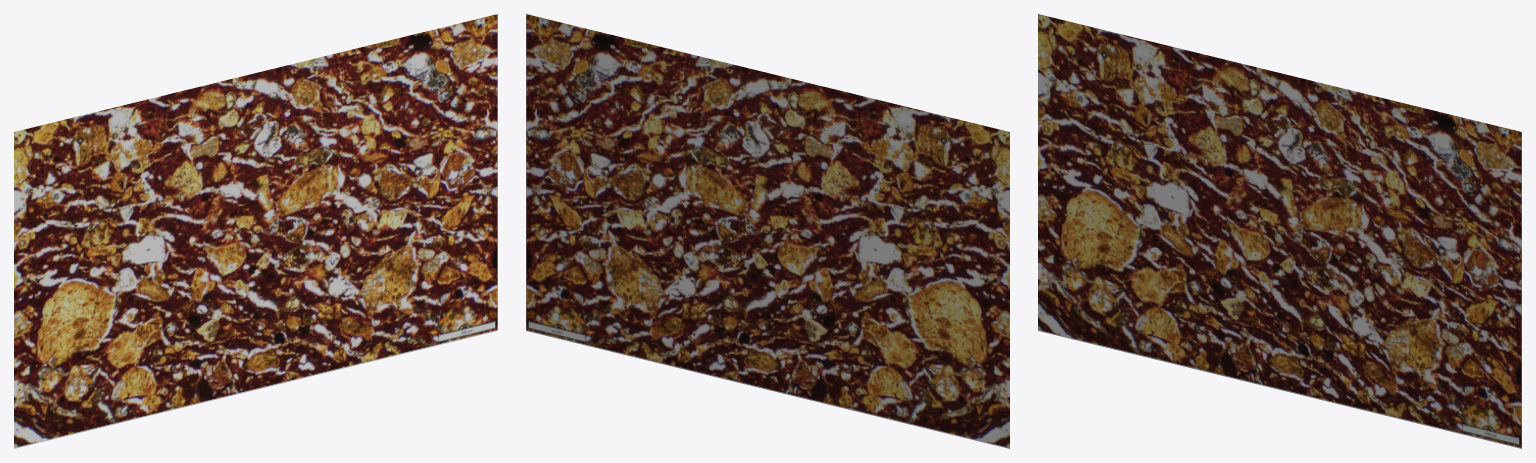
File: wd_7_24_ppl.glb
3 renders of one model, left to right at view 1: azimuth 30°, elevation 25°; view 2: azimuth 150°, elevation 25°; view 3: azimuth 330°, elevation 25°, orthographic.
Visible parts, largest first — view 1: WD_7_24.002; view 2: WD_7_24.002; view 3: WD_7_24.002.
Boxes of the visible parts, x1,y1,x2,y2 form: WD_7_24.002: (14,14,497,448); WD_7_24.002: (526,14,1009,448); WD_7_24.002: (1038,14,1521,448).
Size of the model in its own units: 0.463 by 0.2899 by 1.27e-08.
Materials: 1 (1 with a texture image).
